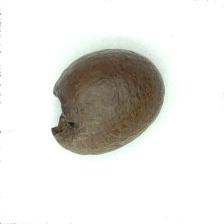NG: (49, 80, 80, 143)
